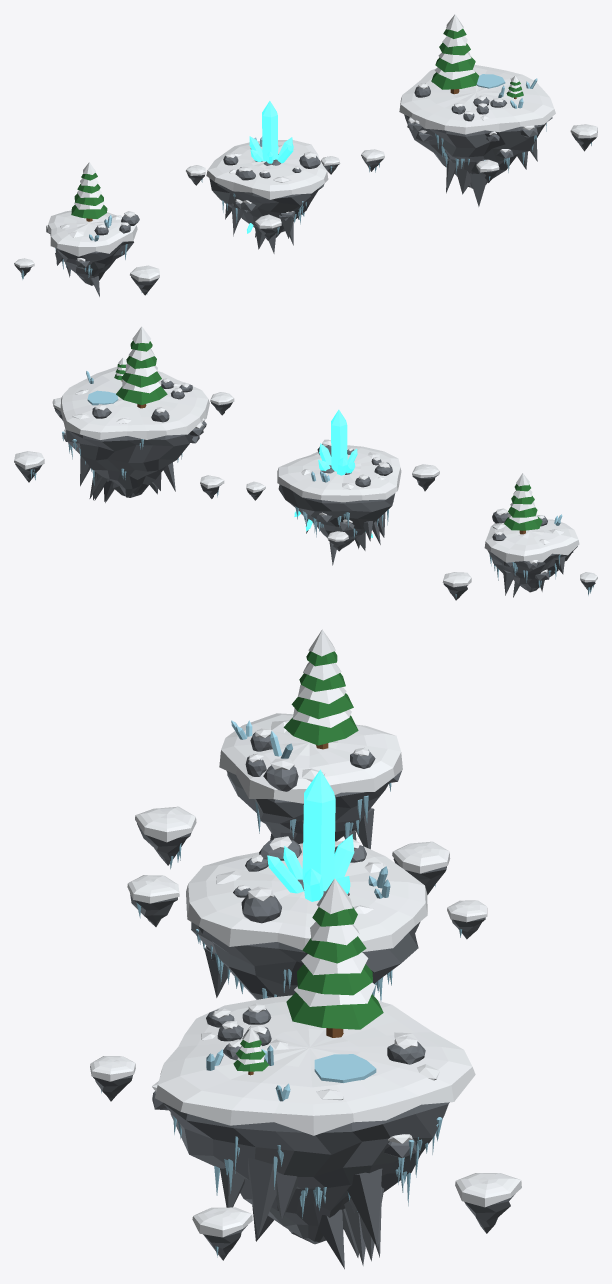
The model's file is frost-islet-set.glb.
The picture shows the model from 3 angles, top to bottom: view 1: azimuth 30°, elevation 25°; view 2: azimuth 150°, elevation 25°; view 3: azimuth 270°, elevation 25°; orthographic projection. The views are drawn at different scales.
Visible parts, largest first — view 1: FrostIslet_Large_Snow, FrostIslet_Large_Rock, FrostIslet_Medium_Snow, FrostIslet_Medium_Rock, FrostIslet_Small_Snow, FrostIslet_Large_Pine, FrostIslet_Small_Rock, FrostIslet_Medium_IceCrystal, FrostIslet_Large_Props, FrostIslet_Small_Pine, FrostIslet_Large, FrostIslet_Medium_Props (+3 smaller); view 2: FrostIslet_Large_Snow, FrostIslet_Large_Rock, FrostIslet_Medium_Snow, FrostIslet_Medium_Rock, FrostIslet_Small_Snow, FrostIslet_Large_Pine, FrostIslet_Small_Rock, FrostIslet_Large, FrostIslet_Medium_IceCrystal, FrostIslet_Large_Props, FrostIslet_Small_Pine, FrostIslet_Medium (+3 smaller); view 3: FrostIslet_Large_Snow, FrostIslet_Large_Rock, FrostIslet_Medium_Snow, FrostIslet_Large_Pine, FrostIslet_Small_Snow, FrostIslet_Large, FrostIslet_Medium_Rock, FrostIslet_Large_Props, FrostIslet_Medium_IceCrystal, FrostIslet_Small_Pine, FrostIslet_Small, FrostIslet_Small_Rock (+4 smaller).
Boxes of the visible parts, x1,y1,x2,y2 form: FrostIslet_Large_Snow: (399,65,555,134); FrostIslet_Large_Rock: (404,114,552,206); FrostIslet_Medium_Snow: (206,140,328,199); FrostIslet_Medium_Rock: (209,178,324,253); FrostIslet_Small_Snow: (47,210,137,256); FrostIslet_Large_Pine: (431,14,523,99); FrostIslet_Small_Rock: (46,225,133,296); FrostIslet_Medium_IceCrystal: (247,101,293,233); FrostIslet_Large_Props: (414,74,537,121); FrostIslet_Small_Pine: (71,162,107,221); FrostIslet_Large: (361,124,597,182); FrostIslet_Medium_Props: (223,136,320,182); FrostIslet_Large_Snow: (60,366,209,439); FrostIslet_Large_Rock: (63,418,206,502); FrostIslet_Medium_Snow: (277,445,401,502); FrostIslet_Medium_Rock: (278,484,395,565); FrostIslet_Small_Snow: (484,519,579,562); FrostIslet_Large_Pine: (114,326,167,408); FrostIslet_Small_Rock: (487,546,577,597); FrostIslet_Large: (14,392,234,498); FrostIslet_Medium_IceCrystal: (294,409,372,537); FrostIslet_Large_Props: (72,371,192,423); FrostIslet_Small_Pine: (504,473,542,534); FrostIslet_Medium: (246,464,439,551); FrostIslet_Large_Snow: (155,995,475,1135); FrostIslet_Large_Rock: (152,1081,449,1269); FrostIslet_Medium_Snow: (186,841,427,952); FrostIslet_Large_Pine: (233,878,383,1075); FrostIslet_Small_Snow: (219,713,402,803); FrostIslet_Large: (90,1056,521,1260); FrostIslet_Medium_Rock: (191,922,420,999); FrostIslet_Large_Props: (201,1003,439,1101); FrostIslet_Medium_IceCrystal: (267,769,354,901); FrostIslet_Small_Pine: (283,629,358,749); FrostIslet_Small: (135,806,450,894); FrostIslet_Small_Rock: (226,770,401,849).
Bounding box in the file's own units: 91.96 × 28.76 × 30.9.
